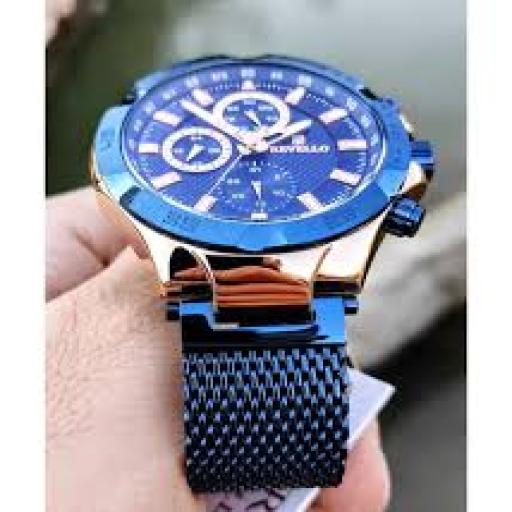KolSaati: (59, 16, 434, 502)
